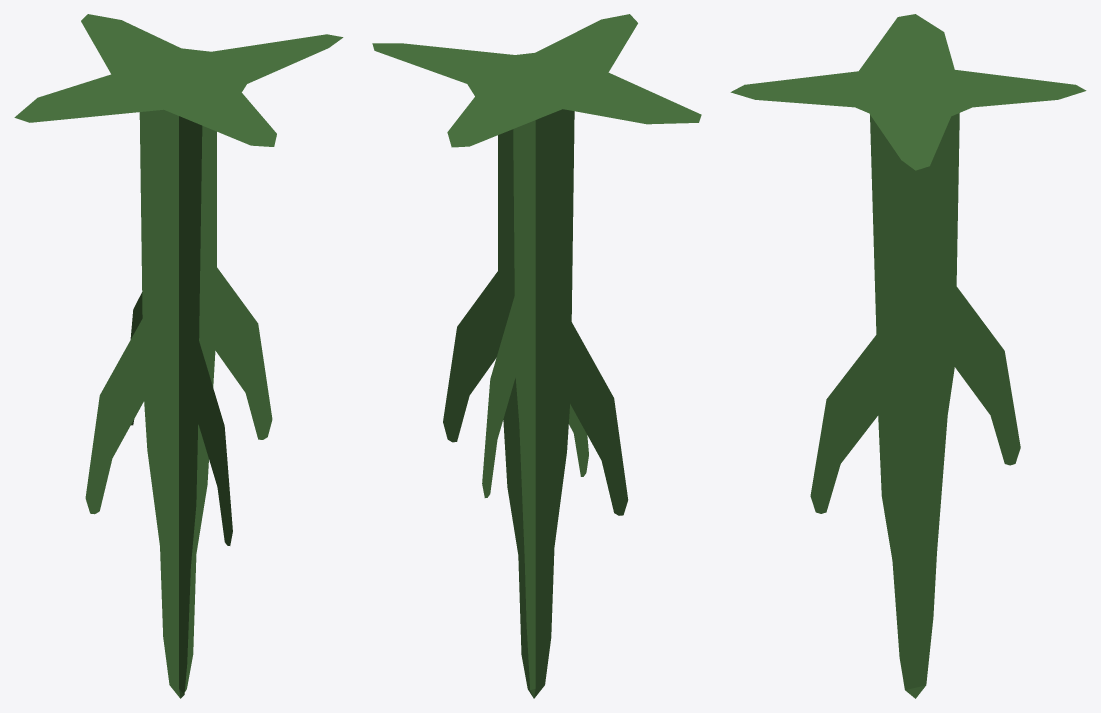
File: cac3.obj
3 views of the same model, side by side, from view 1: azimuth 30°, elevation 25°; view 2: azimuth 150°, elevation 25°; view 3: azimuth 270°, elevation 25° (orthographic). The views are drawn at different scales.
Bounding box in the file's own units: 208 × 375 × 200.
